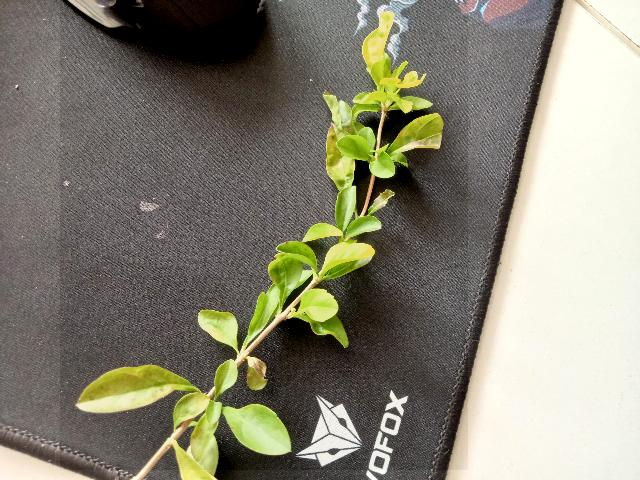pylokantus: (60, 0, 468, 470)
